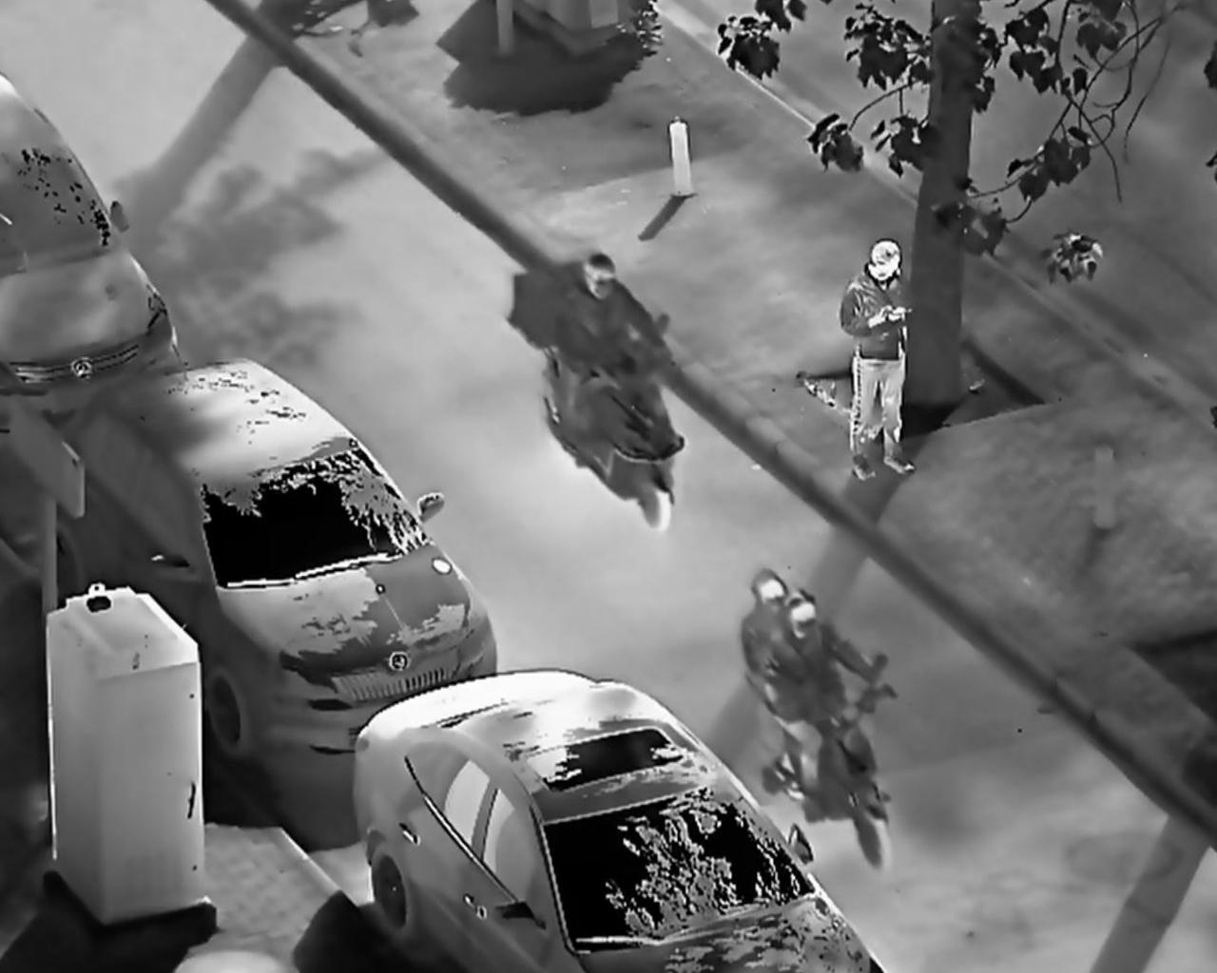person: (762, 585, 883, 798), (837, 230, 926, 484), (549, 252, 663, 441), (736, 563, 823, 801)
